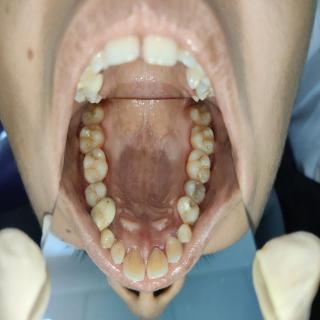cavities: (196, 149, 206, 165), (90, 150, 102, 163), (188, 201, 196, 213)
